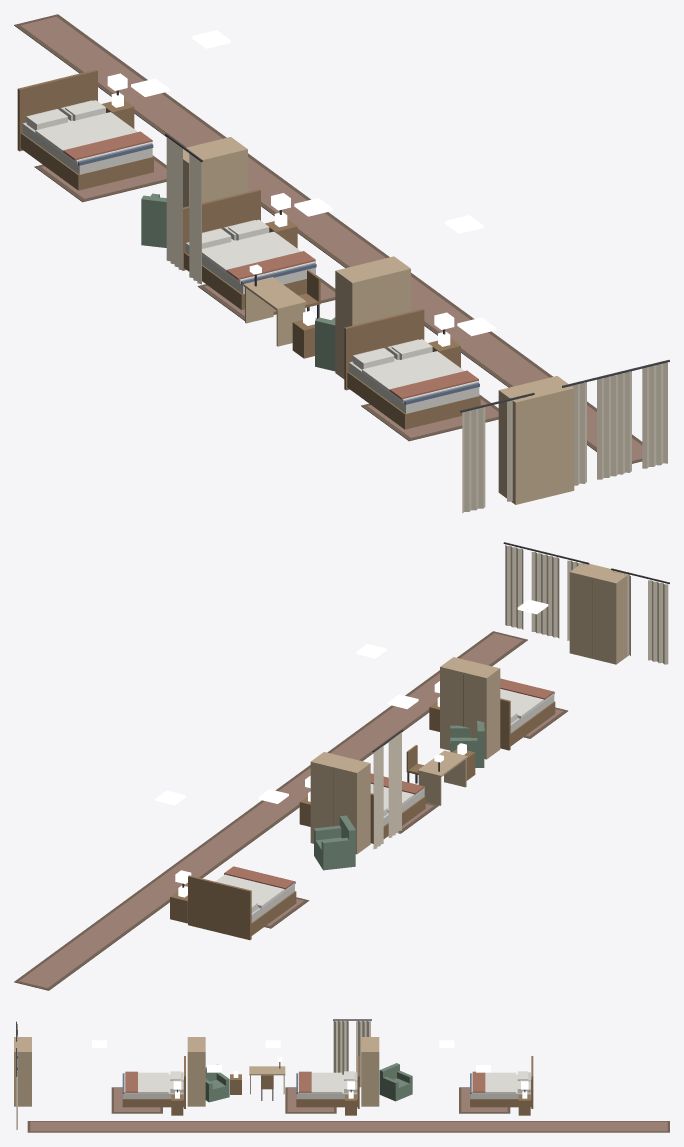
File: fine-s1.glb
3 views of the same model, one above another, from view 1: azimuth 30°, elevation 25°; view 2: azimuth 150°, elevation 25°; view 3: azimuth 270°, elevation 25° (orthographic). The views are drawn at different scales.
Visible parts, largest first — view 1: soft-s1, dresser.002, bed-frame.000, bed-frame.002, dresser.001, bed-frame.001, dresser.000, writing-desk.000, lounge-chair.000, lounge-chair.001, side-table.000; view 2: soft-s1, dresser.002, dresser.001, dresser.000, bed-frame.000, lounge-chair.000, writing-desk.000, bed-frame.002, lounge-chair.001, bed-frame.001; view 3: soft-s1, dresser.000, dresser.001, dresser.002, lounge-chair.000, bed-frame.000, bed-frame.002, bed-frame.001, lounge-chair.001, writing-desk.000, nightstand.000, nightstand.002 (+3 smaller).
Part boxes in pixels (x1,y1,x2,y2): soft-s1: (14,14,669,513); dresser.002: (498,376,574,504); bed-frame.000: (17,69,153,190); bed-frame.002: (344,308,480,429); dresser.001: (335,256,410,379); bed-frame.001: (182,189,316,309); dresser.000: (183,137,247,207); writing-desk.000: (243,264,306,346); lounge-chair.000: (141,193,166,247); lounge-chair.001: (315,317,335,371); side-table.000: (292,310,316,358); soft-s1: (14,542,669,990); dresser.002: (569,563,629,664); dresser.001: (440,657,500,759); dresser.000: (310,752,370,854); bed-frame.000: (188,875,296,940); lounge-chair.000: (314,815,355,870); writing-desk.000: (417,750,467,805); bed-frame.002: (500,691,555,750); lounge-chair.001: (450,720,484,767); bed-frame.001: (370,786,425,843); soft-s1: (16,1019,669,1132); dresser.000: (361,1037,379,1106); dresser.001: (187,1037,205,1106); dresser.002: (14,1037,31,1106); lounge-chair.000: (379,1063,412,1101); bed-frame.000: (470,1056,533,1108); bed-frame.002: (122,1056,185,1108); bed-frame.001: (296,1056,359,1108); lounge-chair.001: (205,1064,229,1102); writing-desk.000: (249,1057,285,1094); nightstand.000: (518,1091,530,1115); nightstand.002: (171,1091,183,1115).
Size of the model in its own units: 4.32 by 2.51 by 21.82.
